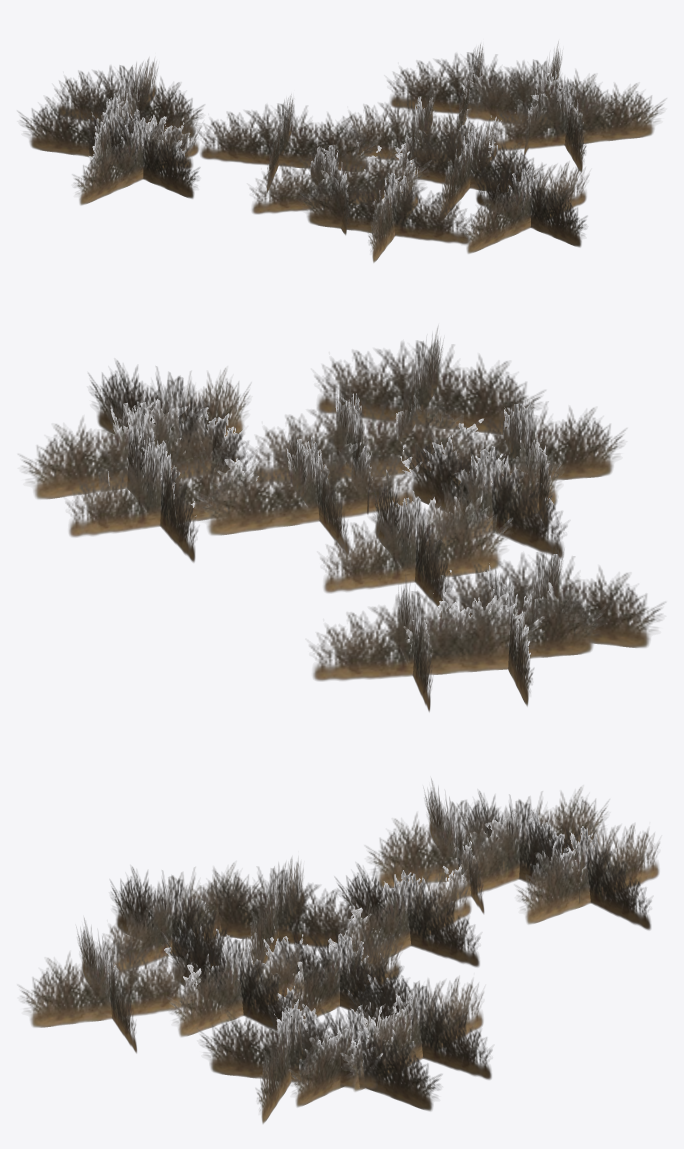
The model's file is 0405worlddeserttransparent_worlddeserttransparentmaterial_0_lev.glb.
The picture shows the model from 3 angles, top to bottom: view 1: azimuth 30°, elevation 25°; view 2: azimuth 150°, elevation 25°; view 3: azimuth 270°, elevation 25°; orthographic projection. The views are drawn at different scales.
Visible parts, largest first — view 1: 0405worlddeserttransparent_worlddeserttransparentmaterial_0_; view 2: 0405worlddeserttransparent_worlddeserttransparentmaterial_0_; view 3: 0405worlddeserttransparent_worlddeserttransparentmaterial_0_.
Part boxes in pixels (left/top/right/bottom): 0405worlddeserttransparent_worlddeserttransparentmaterial_0_: left=17, top=41, right=666, bottom=262; 0405worlddeserttransparent_worlddeserttransparentmaterial_0_: left=18, top=326, right=665, bottom=711; 0405worlddeserttransparent_worlddeserttransparentmaterial_0_: left=17, top=778, right=659, bottom=1123.
Bounding box in the file's own units: 4.22 × 0.4999 × 3.82.
Materials: 1 (1 with a texture image).
